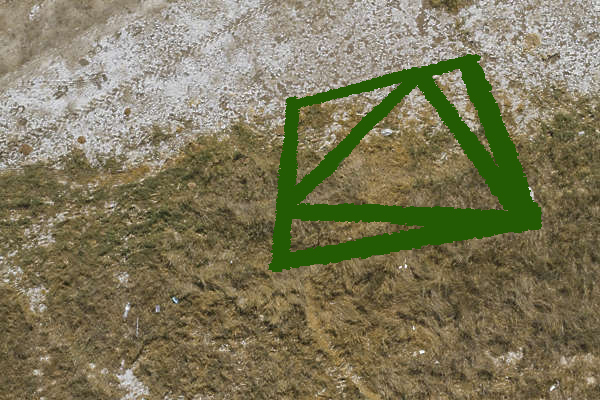marker: (264, 50, 548, 275)
